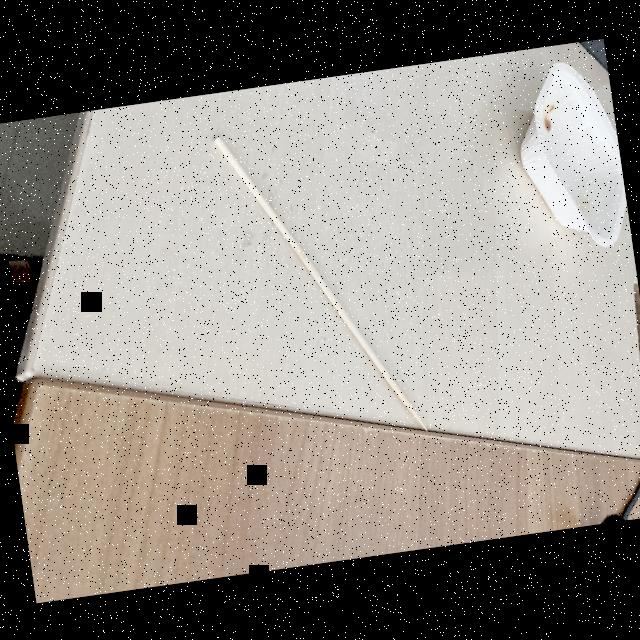cardboard_bowl: (466, 48, 636, 287)
stick: (198, 90, 449, 482)
